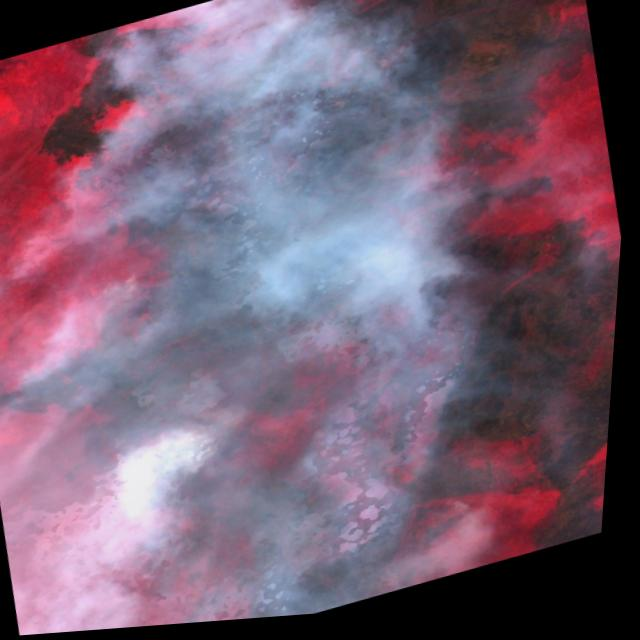fire: (77, 409, 286, 634), (86, 267, 173, 335), (413, 486, 488, 551)
